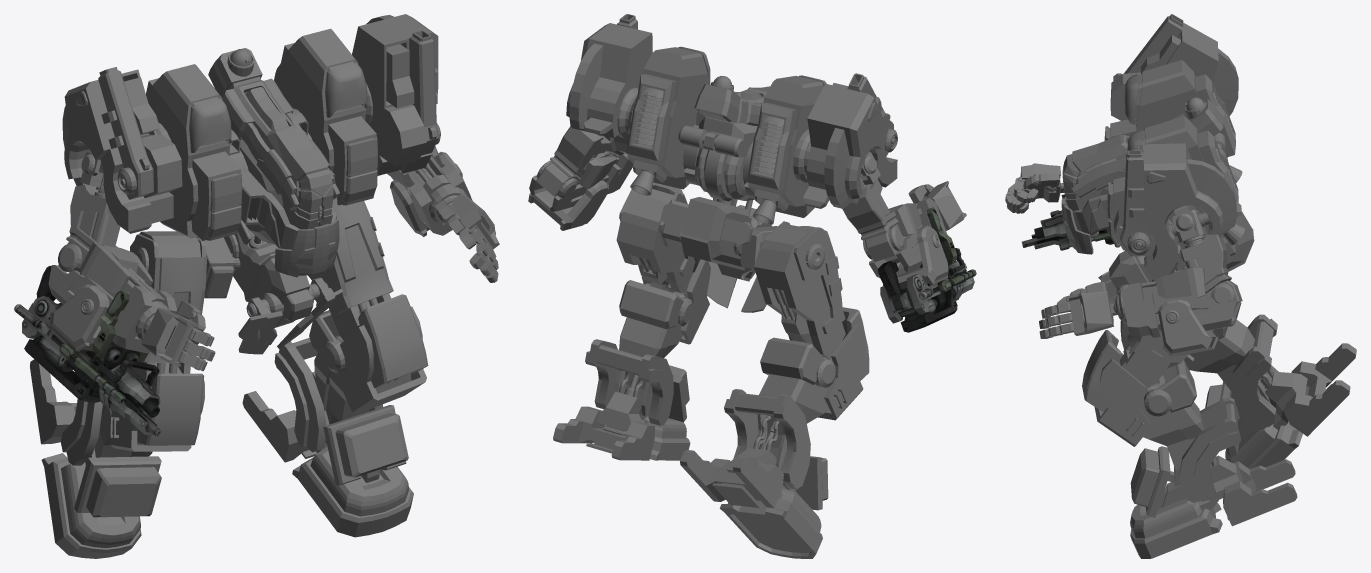
Rendered from mecaDetach.FBX.
3 renders of one model, left to right at view 1: azimuth 30°, elevation 25°; view 2: azimuth 150°, elevation 25°; view 3: azimuth 270°, elevation 25°, orthographic. The views are drawn at different scales.
Visible parts, largest first — view 1: LeftSholder003, LeftSholder2, head, RightSholder, LeftSholder, arm_gun_003, LeftFoot2, RightFoot2, polySurface390, LeftFoot1, RightFoot1, polySurface350 (+47 smaller); view 2: LeftSholder003, LeftSholder2, RightLeg, LeftSholder, RightSholder, pelvis, LeftLeg, LeftLeg2, RightFoot2, polySurface341, polySurface383, RightLeg2 (+33 smaller); view 3: LeftSholder2, RightSholder, LeftLeg2, LeftSholder003, RightLeg2, LeftFoot2, polySurface347, rightFoot3, polySurface341, LeftFoot3, LeftSholder, polySurface348 (+26 smaller).
Part boxes in pixels (box(x1,y1,x2,y2)): LeftSholder003: box(62, 69, 182, 233); LeftSholder2: box(352, 14, 438, 175); head: box(208, 48, 333, 229); RightSholder: box(146, 64, 240, 240); LeftSholder: box(274, 28, 376, 205); arm_gun_003: box(22, 290, 160, 434); LeftFoot2: box(292, 446, 413, 537); RightFoot2: box(41, 453, 141, 558); polySurface390: box(326, 201, 393, 315); LeftFoot1: box(323, 405, 408, 485); RightFoot1: box(74, 456, 161, 517); polySurface350: box(358, 294, 428, 388); LeftSholder003: box(803, 83, 897, 208); LeftSholder2: box(566, 23, 652, 155); RightLeg: box(754, 224, 845, 359); LeftSholder: box(626, 47, 708, 189); RightSholder: box(747, 76, 823, 217); pelvis: box(660, 197, 771, 281); LeftLeg: box(616, 189, 695, 293); LeftLeg2: box(597, 272, 694, 430); RightFoot2: box(719, 488, 822, 558); polySurface341: box(724, 389, 810, 488); polySurface383: box(678, 112, 754, 201); RightLeg2: box(726, 357, 835, 498); LeftSholder2: box(1114, 143, 1241, 281); RightSholder: box(1107, 60, 1235, 157); LeftLeg2: box(1139, 375, 1242, 509); LeftSholder003: box(1110, 22, 1238, 120); RightLeg2: box(1189, 319, 1307, 443); LeftFoot2: box(1130, 498, 1222, 558); polySurface347: box(1179, 397, 1240, 502); rightFoot3: box(1284, 343, 1356, 436); polySurface341: box(1231, 314, 1278, 429); LeftFoot3: box(1223, 459, 1297, 526); LeftSholder: box(1110, 116, 1238, 258); polySurface348: box(1094, 352, 1151, 446).
Size of the model in its own units: 616 by 701 by 494.
